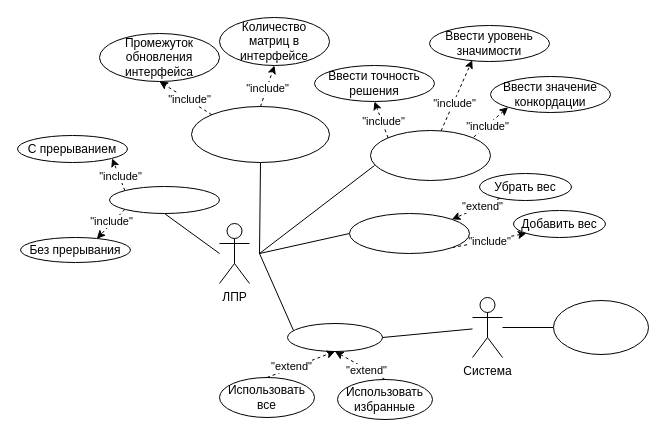
This 666x437 diagram has some shape labels left out. Each missing label, with the centre of its shape:
Ввести весовые коэффициенты: the point at 409,233
Ввести настройки обновления интерфейса: the point at 260,134
Ввести статистические показатели: the point at 430,155
Задать ранги: the point at 334,337
Запустить процесс: the point at 164,200
Составить матрицу рангов: the point at 600,327
